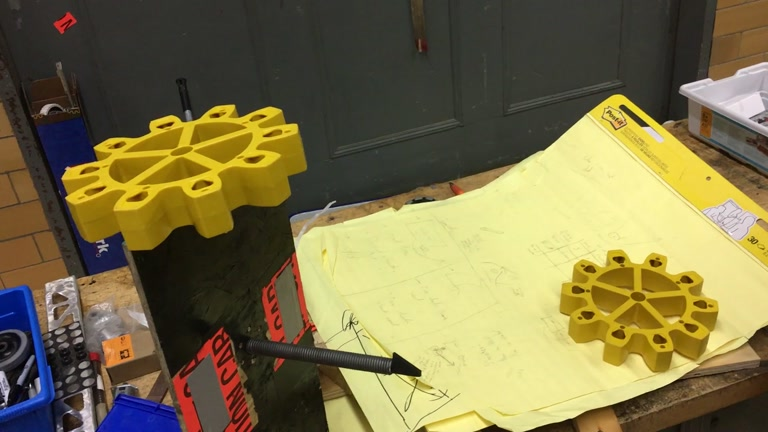gear: (60, 103, 307, 251), (559, 247, 720, 373)
